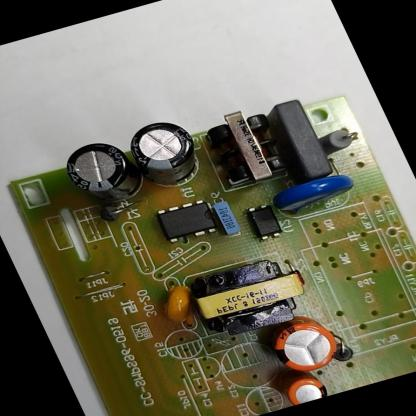Cap1: (256, 307, 351, 382)
Cap2: (270, 362, 333, 408)
Cap3: (113, 112, 218, 200)
Cap4: (45, 129, 158, 218)
MOSFET: (148, 193, 228, 246)
Mov: (261, 166, 364, 224)
Resistor: (308, 123, 367, 159)
Transformer: (177, 247, 324, 347), (193, 101, 292, 191)
